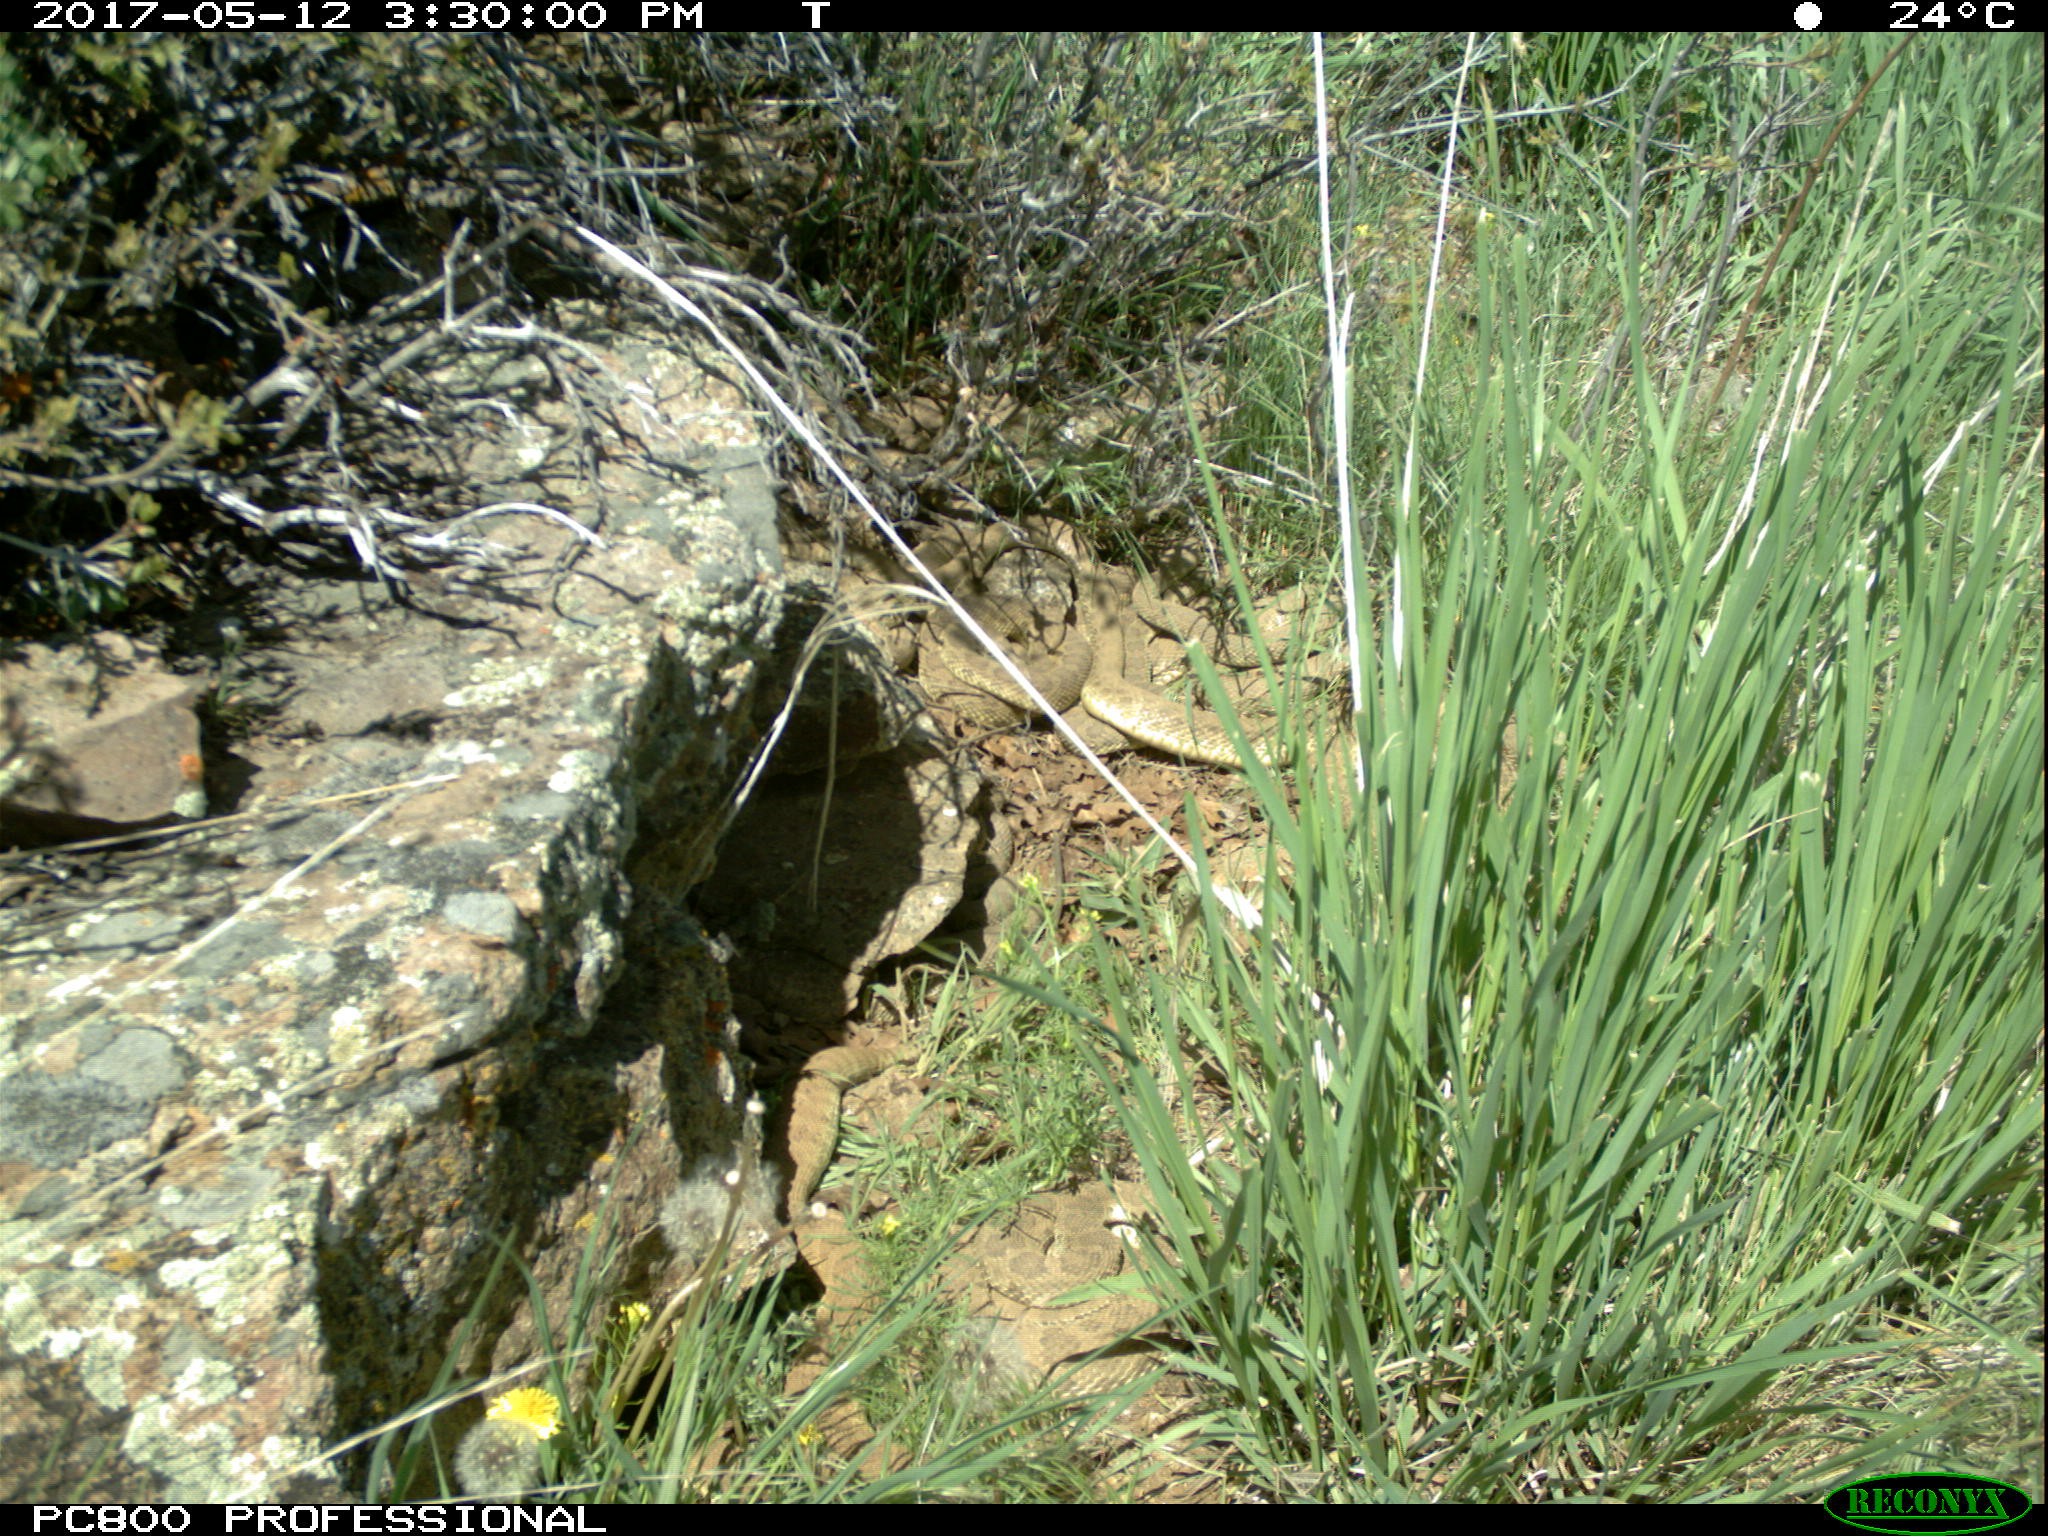snake: (1071, 566, 1293, 763), (895, 513, 1089, 707), (777, 1037, 897, 1342), (987, 1291, 1206, 1434), (951, 1179, 1177, 1305), (1138, 576, 1351, 665), (782, 1352, 918, 1478)
